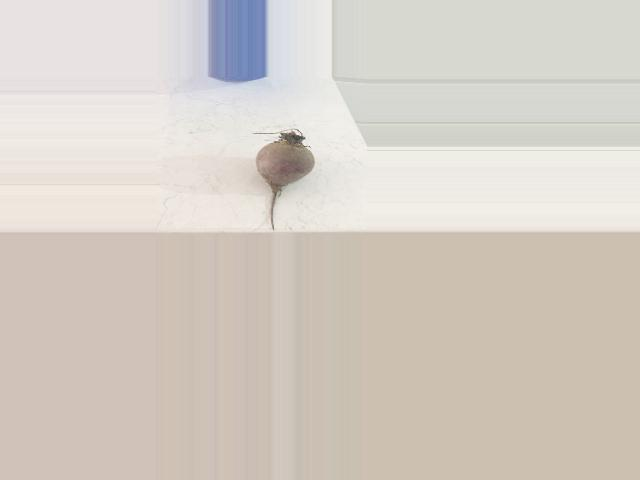beet: (251, 128, 313, 230)
